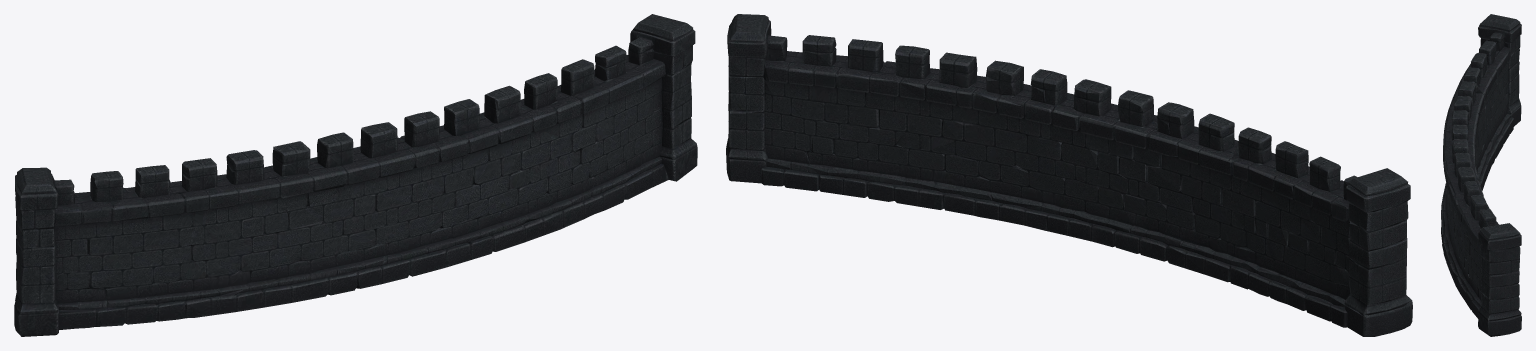
The model's file is inner_wall_segment.glb.
3 renders of one model, left to right at view 1: azimuth 30°, elevation 25°; view 2: azimuth 150°, elevation 25°; view 3: azimuth 270°, elevation 25°, orthographic. The views are drawn at different scales.
Visible parts, largest first — view 1: output_unwrapped; view 2: output_unwrapped; view 3: output_unwrapped.
Part boxes in pixels (left/top/right/bottom): output_unwrapped: left=14, top=14, right=697, bottom=336; output_unwrapped: left=726, top=14, right=1412, bottom=336; output_unwrapped: left=1441, top=14, right=1521, bottom=336.
Size of the model in its own units: 1.9 by 0.4054 by 0.2867.
1 material, 1 textured.
